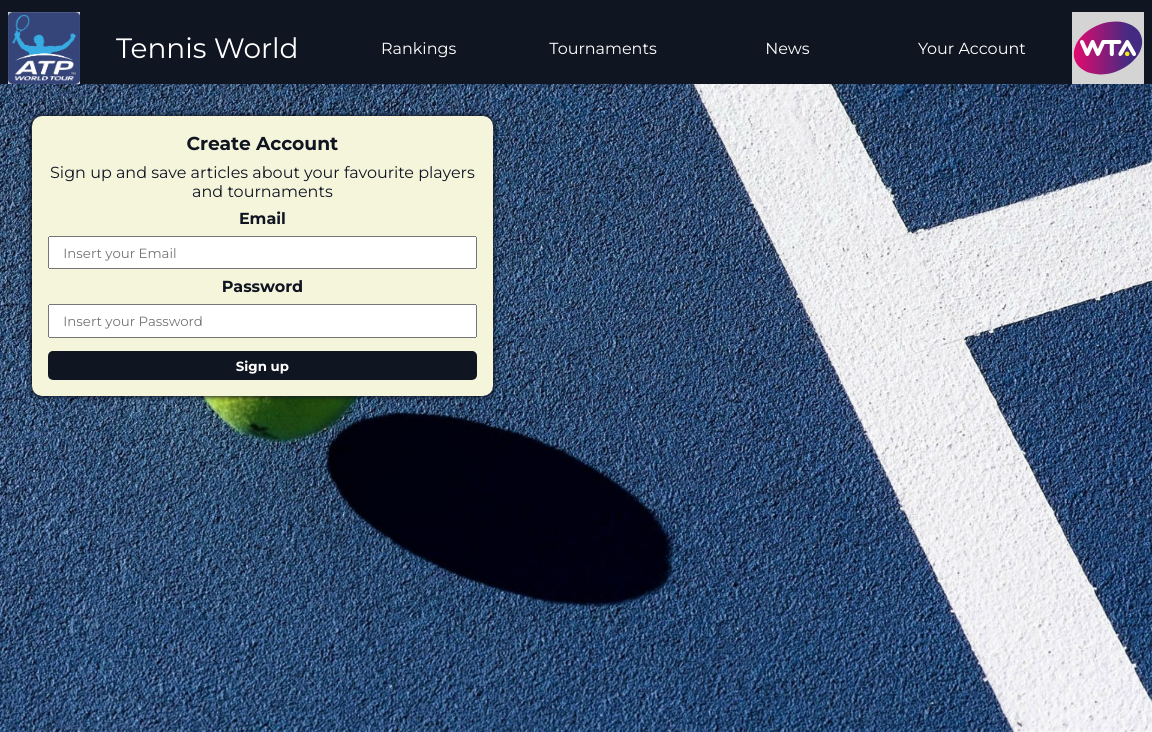
Sign up › Failed signup
Type "someemail@gmail.com" into the field with placeholder "Insert your Email" at [263, 253], box [48,236,477,269]
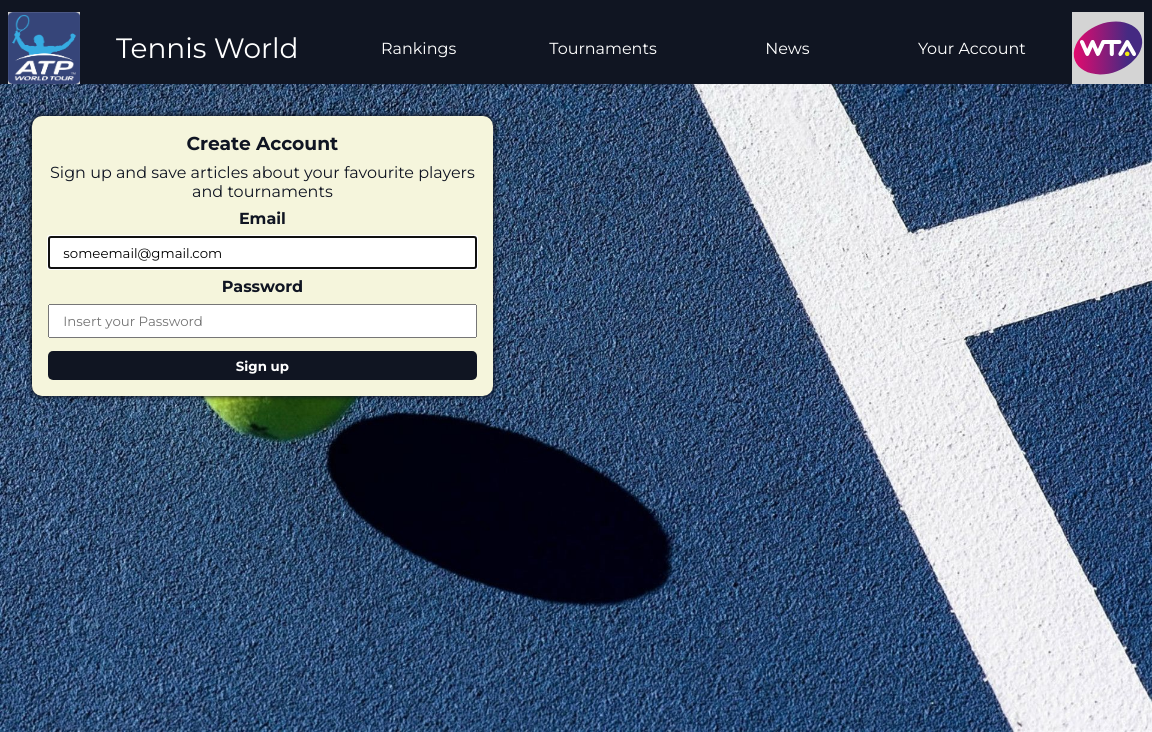
Type "password" into the password field with placeholder "Insert your Password" at [263, 321], box [48,304,477,337]
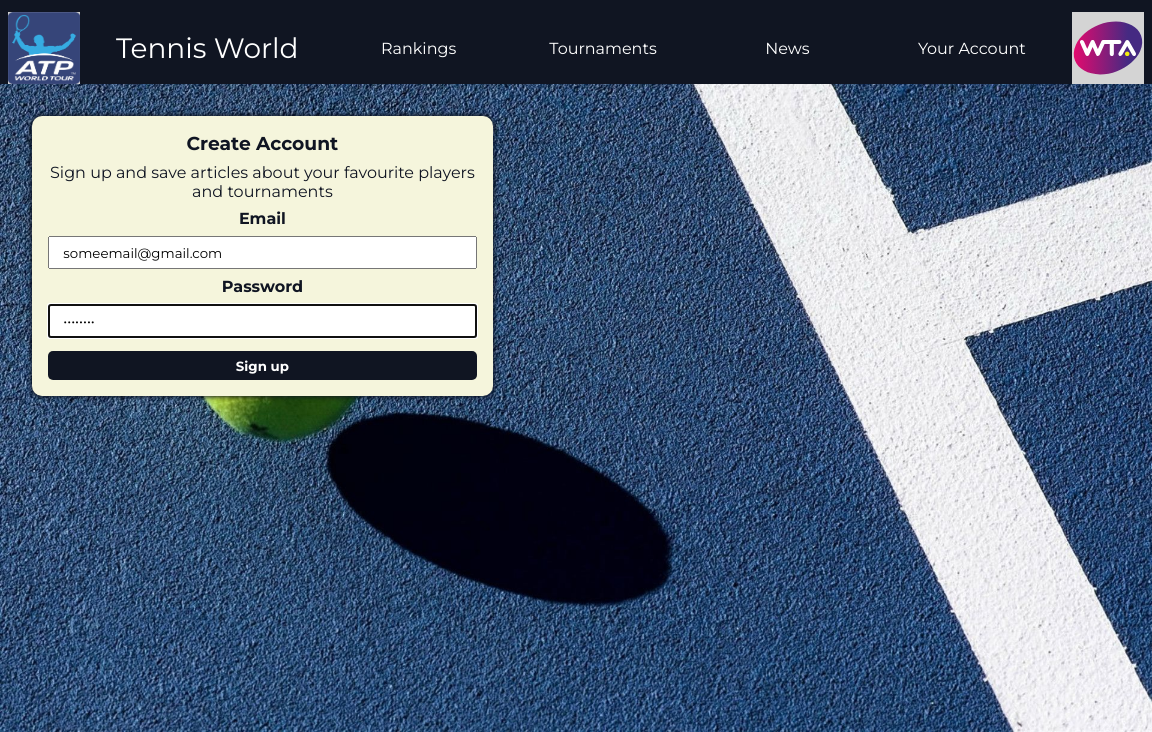
Click the button "Sign up" at [263, 366], box [48,351,477,380]
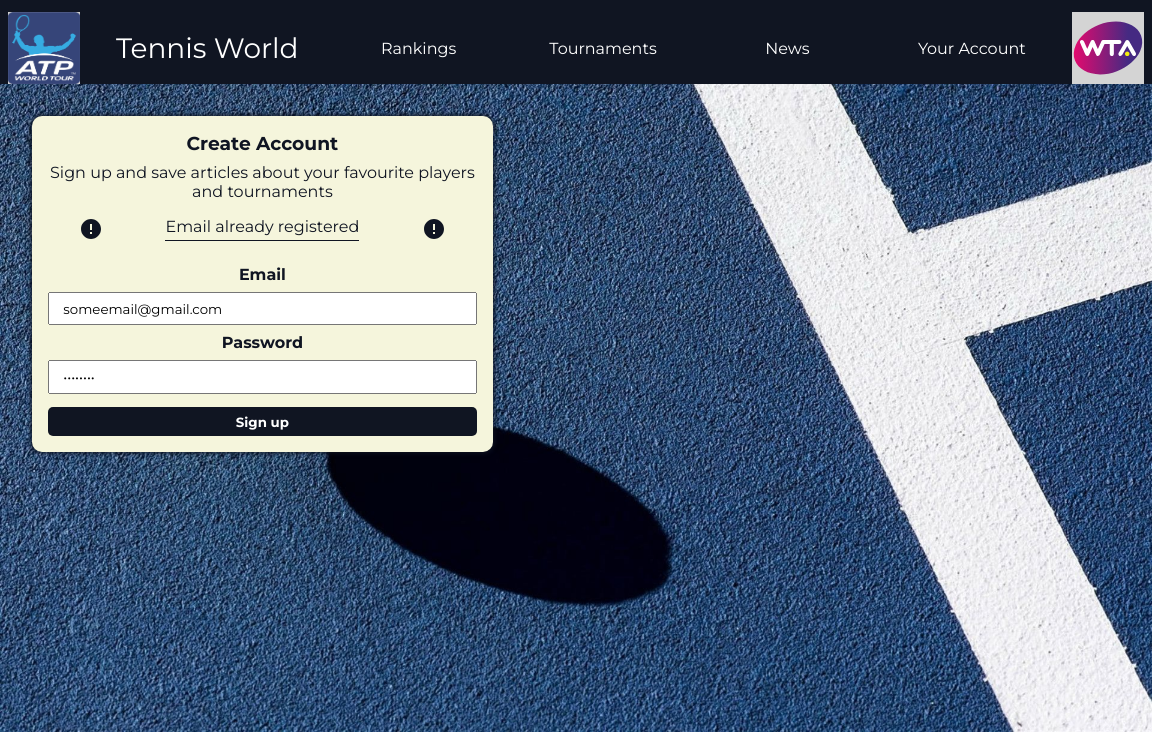
expect the text "Email already registered" is shown: met, box [165,217,359,241]
